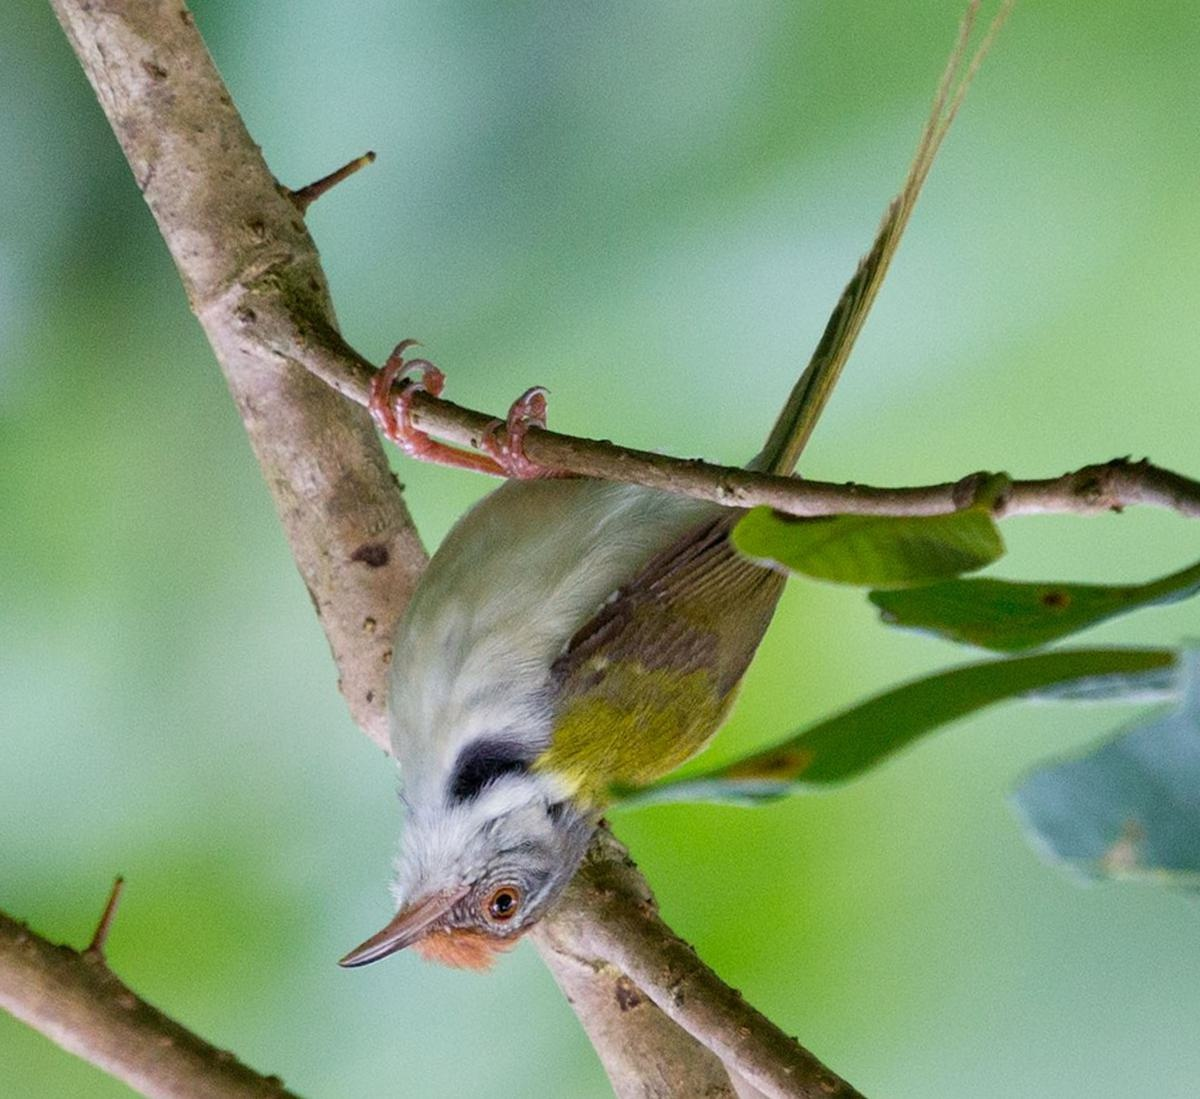tailorbird: (332, 35, 957, 985)
